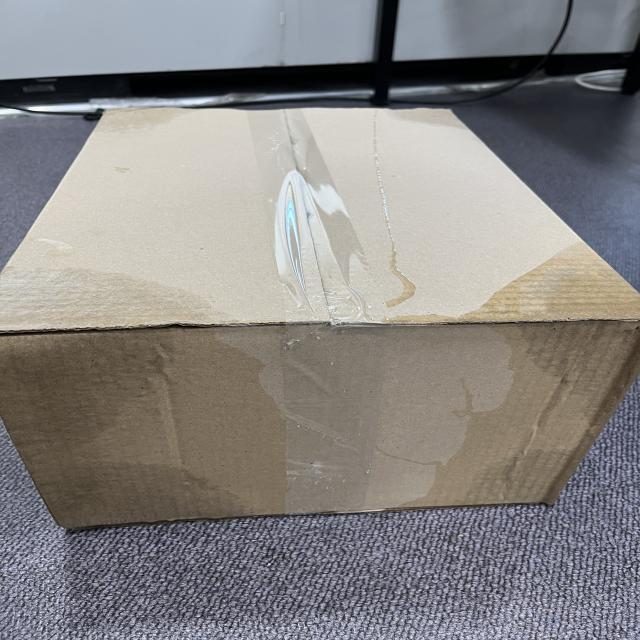wet: (0, 256, 274, 539), (460, 246, 640, 530)
